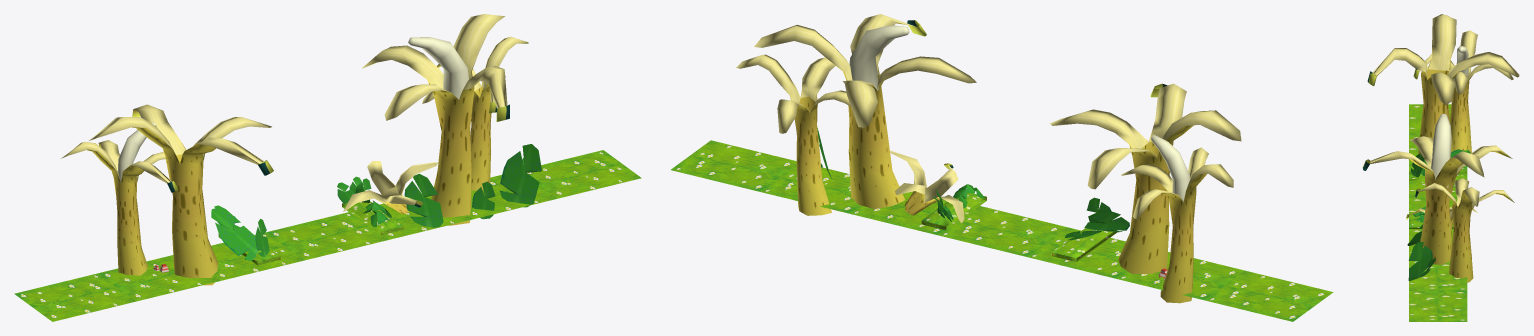
File: Block_Bord_03.fbx
3 views of the same model, side by side, from view 1: azimuth 30°, elevation 25°; view 2: azimuth 150°, elevation 25°; view 3: azimuth 270°, elevation 25° (orthographic). The views are drawn at different scales.
Visible parts, largest first — view 1: Block_bord_03; view 2: Block_bord_03; view 3: Block_bord_03.
Part boxes in pixels (x1=…): Block_bord_03: x1=14, y1=14, x2=641, y2=321; Block_bord_03: x1=671, y1=14, x2=1333, y2=321; Block_bord_03: x1=1362, y1=14, x2=1519, y2=321.
Size of the model in its own units: 53 by 15.69 by 16.16.
